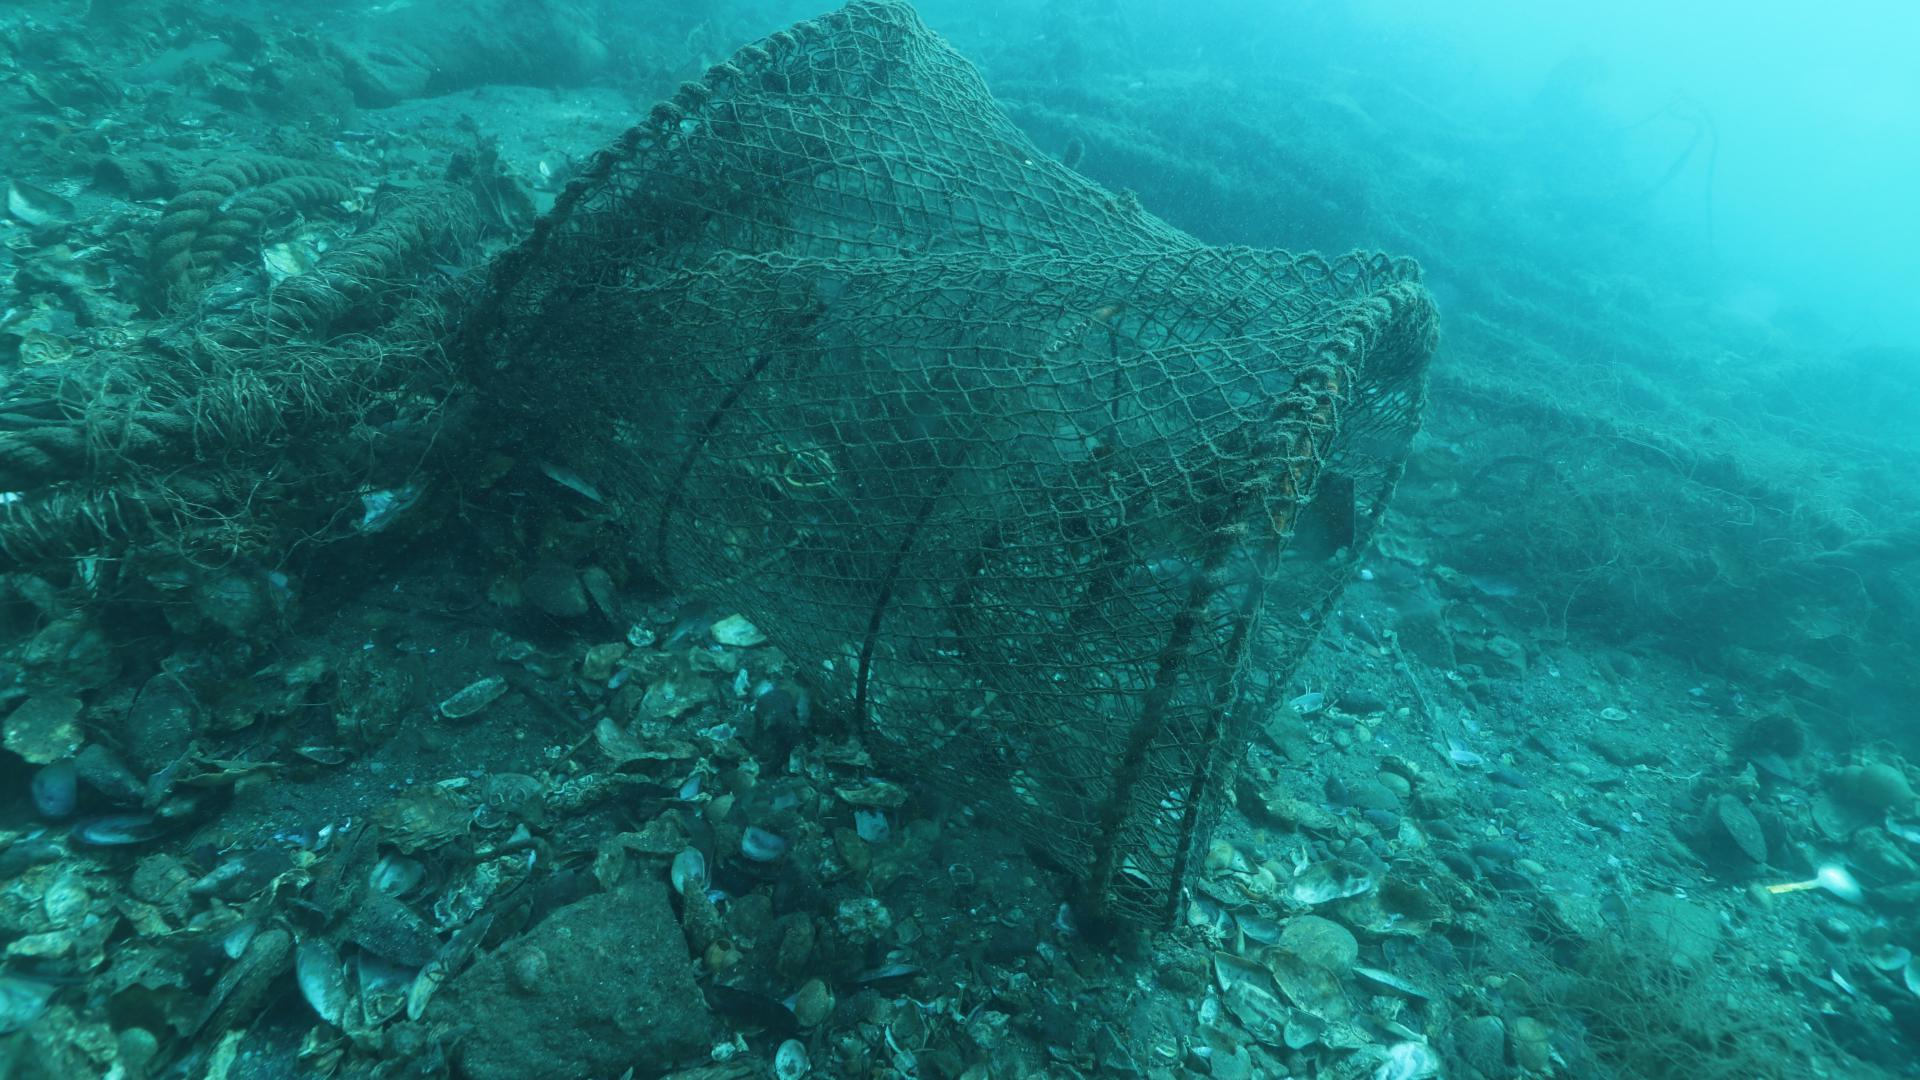bundle of ropes: (146, 150, 352, 307)
rope: (0, 405, 208, 487), (278, 204, 429, 307)
spring fish trap: (447, 0, 1441, 964)
